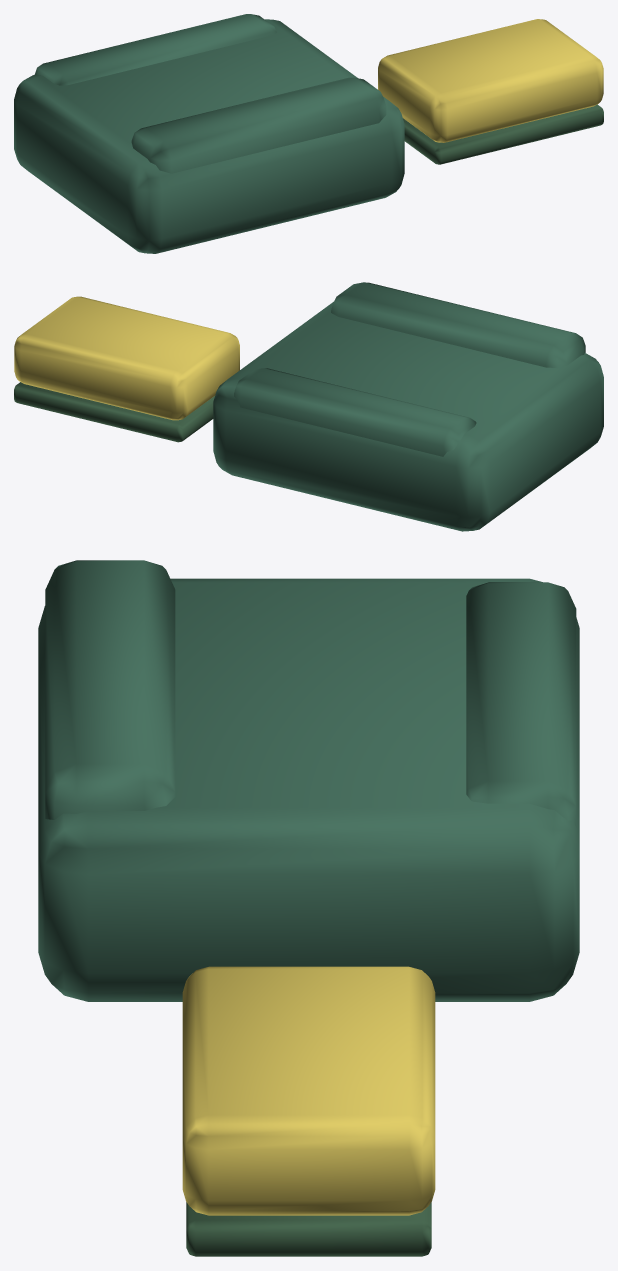
The model's file is asset_077_cleaning_cloth_and_sponge_set_fp.glb.
The picture shows the model from 3 angles, top to bottom: view 1: azimuth 30°, elevation 25°; view 2: azimuth 150°, elevation 25°; view 3: azimuth 270°, elevation 25°; orthographic projection. The views are drawn at different scales.
Parts seen in each view (by area): view 1: MESH_ClothBody, MESH_SpongeFoam, MESH_ClothFoldA, MESH_ClothFoldB, MESH_SpongeScourPad; view 2: MESH_ClothBody, MESH_SpongeFoam, MESH_ClothFoldB, MESH_ClothFoldA, MESH_SpongeScourPad; view 3: MESH_ClothBody, MESH_SpongeFoam, MESH_ClothFoldA, MESH_ClothFoldB, MESH_SpongeScourPad.
Part boxes in pixels (left/top/right/bottom): MESH_ClothBody: left=14, top=19, right=404, bottom=253; MESH_SpongeFoam: left=378, top=19, right=603, bottom=142; MESH_ClothFoldA: left=131, top=77, right=386, bottom=173; MESH_ClothFoldB: left=34, top=14, right=276, bottom=85; MESH_SpongeScourPad: left=403, top=104, right=603, bottom=164; MESH_ClothBody: left=213, top=301, right=603, bottom=531; MESH_SpongeFoam: left=14, top=296, right=239, bottom=420; MESH_ClothFoldB: left=234, top=368, right=476, bottom=456; MESH_ClothFoldA: left=331, top=282, right=585, bottom=367; MESH_SpongeScourPad: left=14, top=382, right=214, bottom=442; MESH_ClothBody: left=38, top=578, right=579, bottom=1001; MESH_SpongeFoam: left=182, top=966, right=435, bottom=1215; MESH_ClothFoldA: left=45, top=560, right=175, bottom=819; MESH_ClothFoldB: left=466, top=582, right=576, bottom=827; MESH_SpongeScourPad: left=186, top=1202, right=431, bottom=1256.
Bounding box in the file's own units: 0.3225 × 0.0735 × 0.15.
